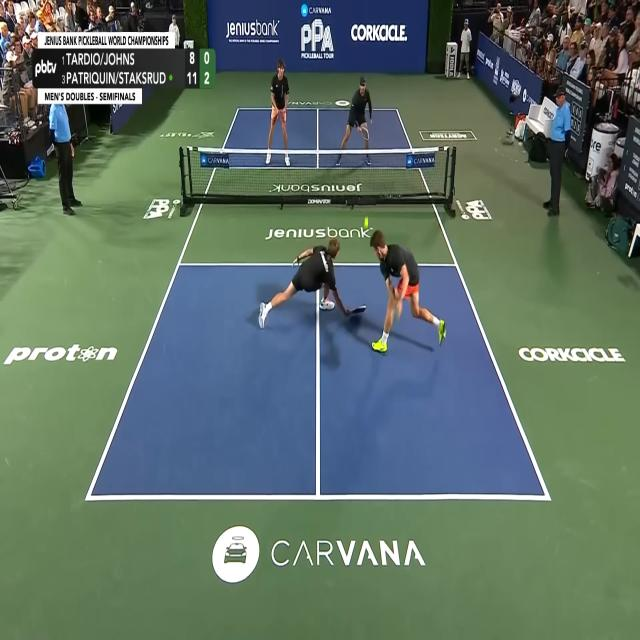ball: (364, 215, 368, 229)
